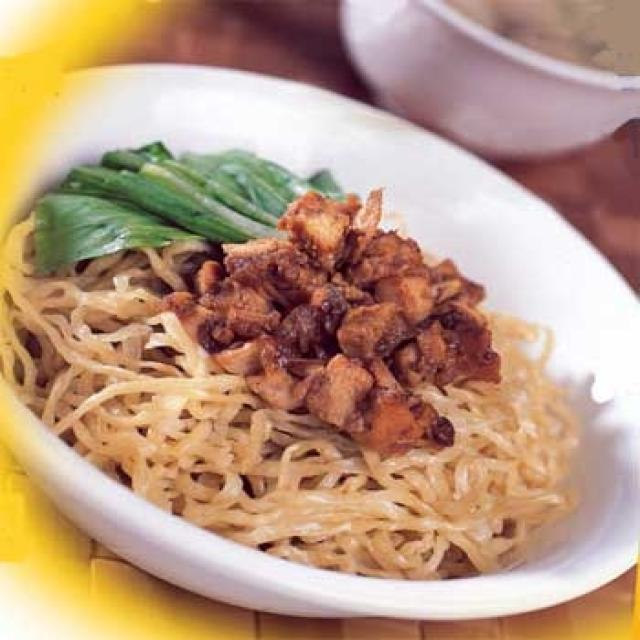面条主食: (11, 69, 616, 619)
